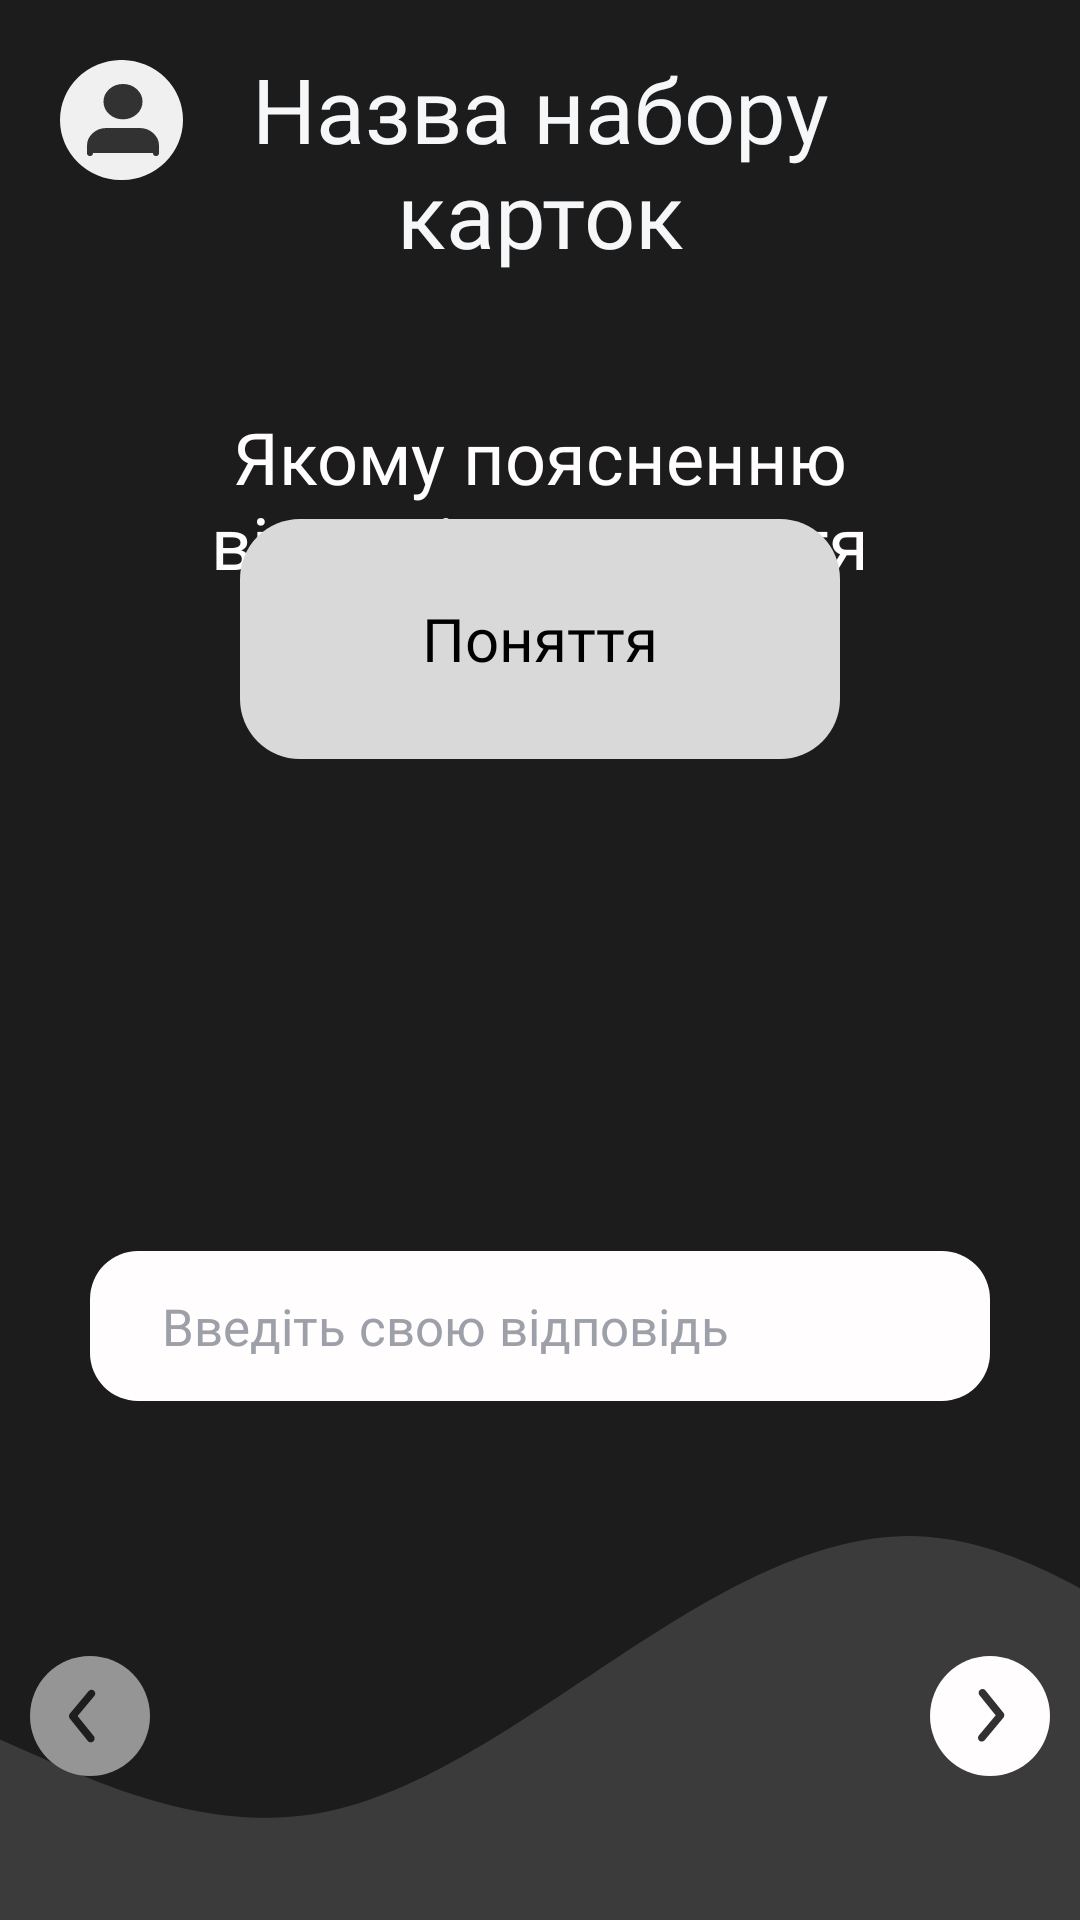

Locate icon controls on the screen. Image size 1080×1920, boxes as (x1, y1, x2, y2).
left back pas: (30, 1656, 150, 1776)
Акаунта: (60, 60, 183, 180)
Вперед: (930, 1656, 1050, 1776)
